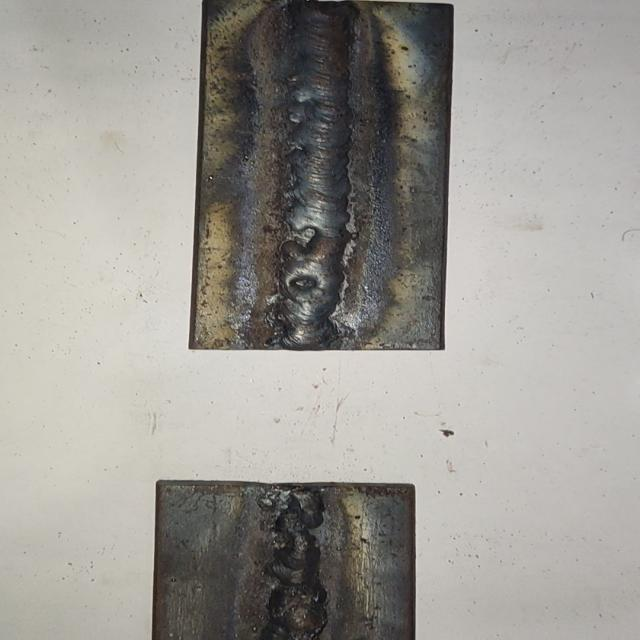Defect: (262, 491, 335, 640), (267, 210, 359, 272)
Welding Line: (282, 0, 358, 344), (258, 489, 335, 640)
Workpiece: (181, 0, 461, 356), (140, 475, 420, 640)
